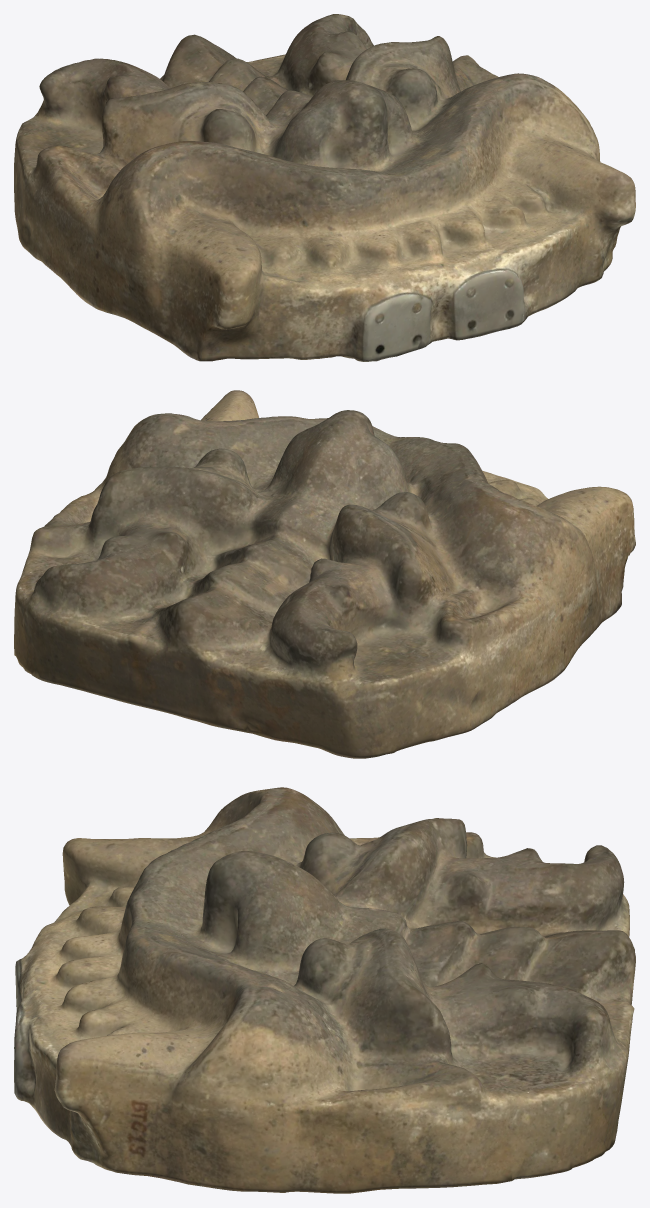
File: 28_makara_final.glb
The picture shows the model from 3 angles, top to bottom: view 1: azimuth 30°, elevation 25°; view 2: azimuth 150°, elevation 25°; view 3: azimuth 270°, elevation 25°; orthographic projection. The views are drawn at different scales.
Size of the model in its own units: 0.2976 by 0.1122 by 0.297.
Materials: 1 (1 with a texture image).
